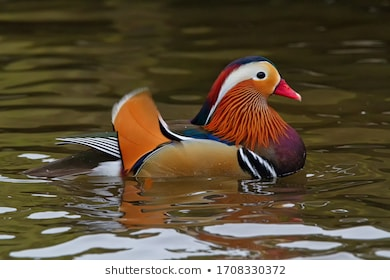duck: (45, 42, 337, 191)
